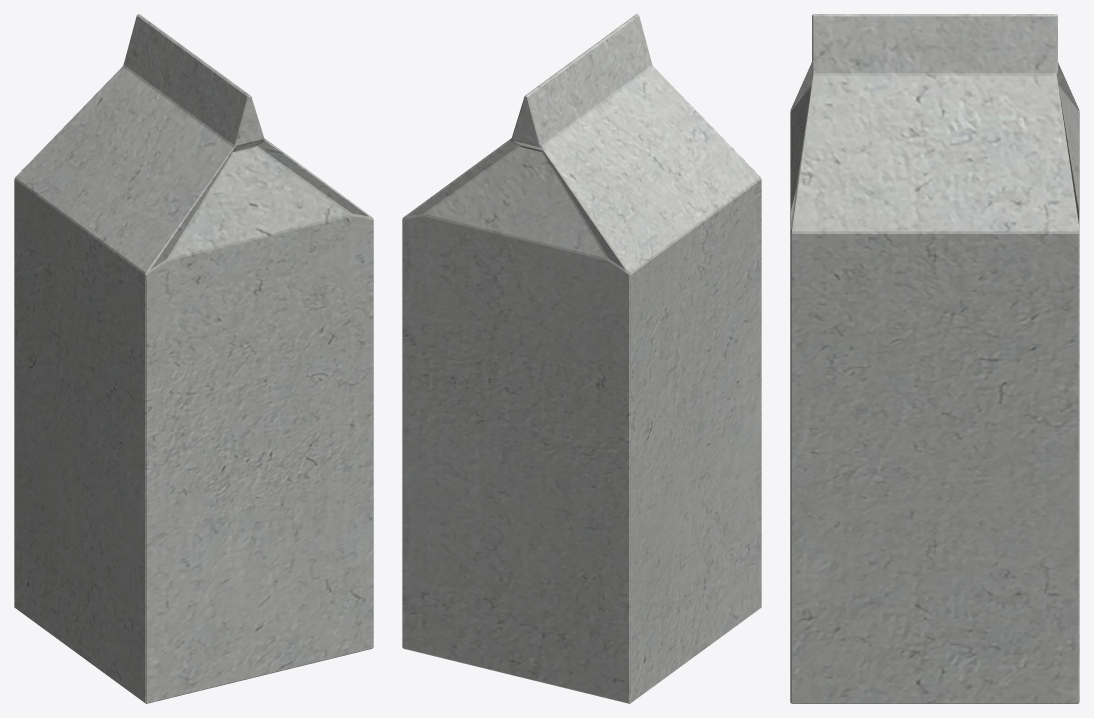
The model's file is Carton1.fbx.
3 views of the same model, side by side, from view 1: azimuth 30°, elevation 25°; view 2: azimuth 150°, elevation 25°; view 3: azimuth 270°, elevation 25° (orthographic). The views are drawn at different scales.
Parts seen in each view (by area): view 1: Cube; view 2: Cube; view 3: Cube.
Part boxes in pixels (x1,y1,x2,y2): Cube: (14,14,373,703); Cube: (402,14,761,703); Cube: (790,14,1079,703).
Size of the model in its own units: 50 by 120 by 50.
